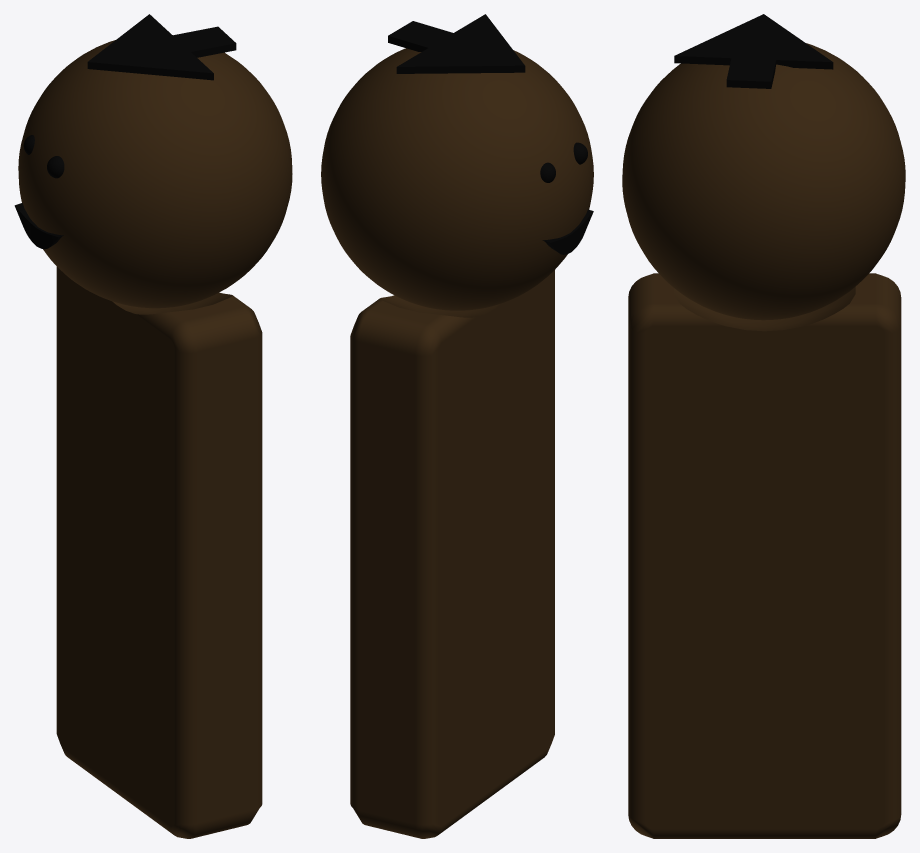
The model's file is brown_smile.obj.
3 views of the same model, side by side, from view 1: azimuth 30°, elevation 25°; view 2: azimuth 150°, elevation 25°; view 3: azimuth 270°, elevation 25° (orthographic). The views are drawn at different scales.
Visible parts, largest first — view 1: 1_Curve.002_Curve.001, 5.002_Curve.002_Curve.003_5.002_Curve.002_Curve.002; view 2: 1_Curve.002_Curve.001, 5.002_Curve.002_Curve.003_5.002_Curve.002_Curve.002; view 3: 1_Curve.002_Curve.001, 5.002_Curve.002_Curve.003_5.002_Curve.002_Curve.002.
Boxes of the visible parts, <box> form: 1_Curve.002_Curve.001: <box>18,40,292,838</box>; 5.002_Curve.002_Curve.003_5.002_Curve.002_Curve.002: <box>14,14,236,249</box>; 1_Curve.002_Curve.001: <box>321,48,593,838</box>; 5.002_Curve.002_Curve.003_5.002_Curve.002_Curve.002: <box>388,14,593,254</box>; 1_Curve.002_Curve.001: <box>622,43,905,838</box>; 5.002_Curve.002_Curve.003_5.002_Curve.002_Curve.002: <box>674,14,833,88</box>.
Bounding box in the file's own units: 0.1662 × 0.4993 × 0.1661.
